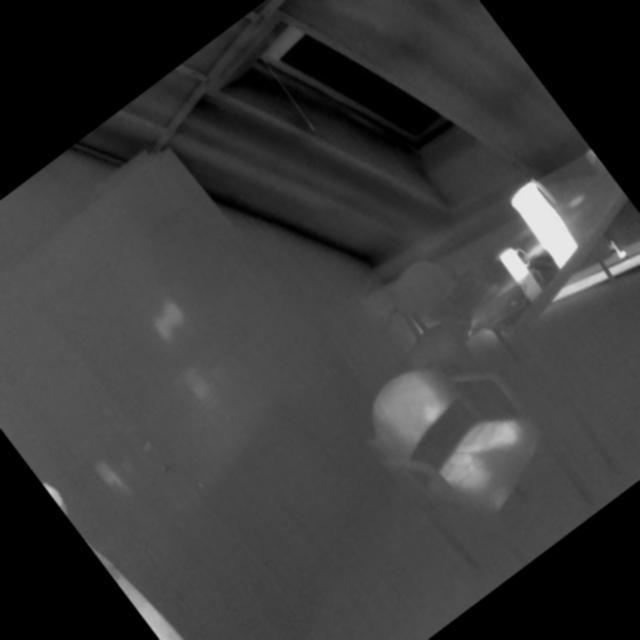person: (40, 449, 299, 640)
